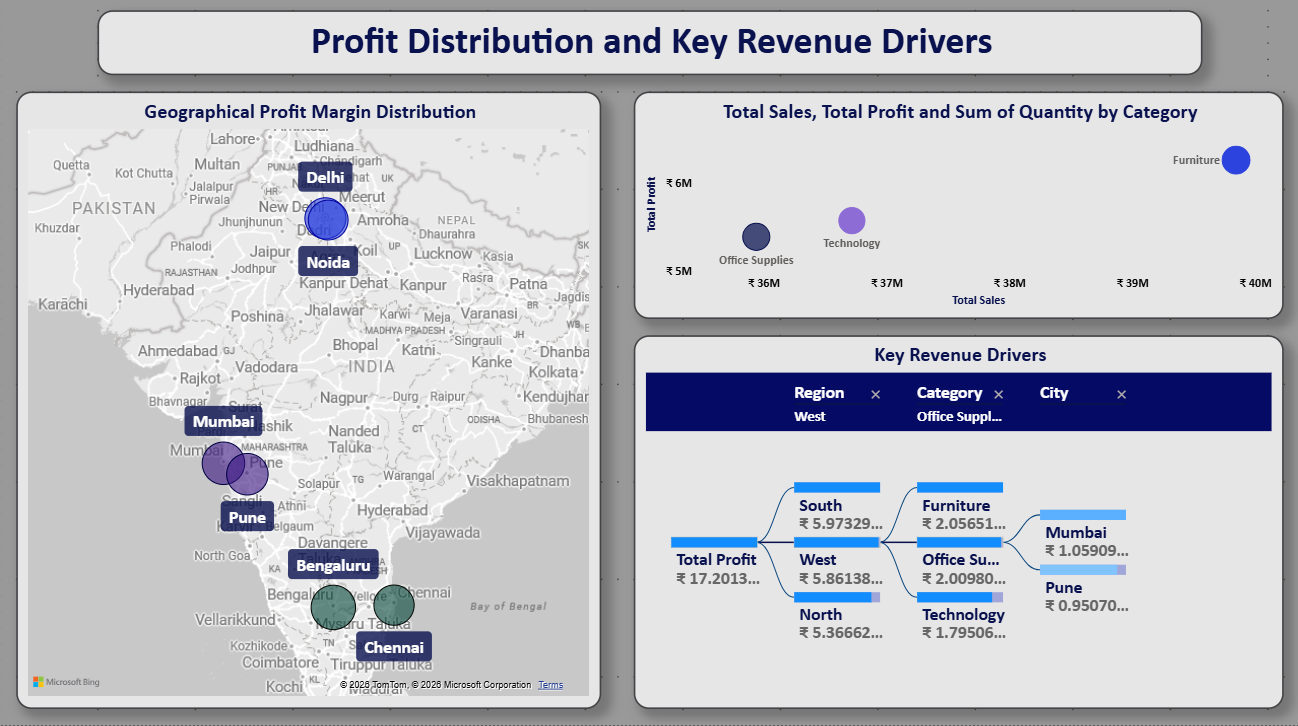

Layout of this report page (visuals, bound fields, positions):
{"tool":"powerbi","page":{"name":"Profit Analysis","canvas":[1280,720],"ordinal":2},"visuals":[{"type":"textbox","title":"Profit Distribution and Key Revenue Drivers","box":[96,16,1088,64],"z":0},{"type":"scatterChart","fields":{"X":["Fact_Orders.Total Sales"],"Y":["Fact_Orders.Total Profit"],"Series":["DimProduct.Category"],"Size":["Sum(Fact_Orders.Quantity)"]},"box":[624,96,640,224],"z":1000},{"type":"map","title":"Geographical Profit Margin Distribution","fields":{"Category":["Fact_Orders.City"],"Series":["Fact_Orders.Region"],"Size":["Fact_Orders.Total Profit"]},"box":[16,96,576,608],"z":2000},{"type":"decompositionTreeVisual","title":"Key Revenue Drivers","fields":{"ExplainBy":["Fact_Orders.Region","DimProduct.Category","Fact_Orders.City"],"Analyze":["Fact_Orders.Total Profit"]},"box":[624,336,640,368],"z":3000}]}

Visuals, with their boxes in screenshot pixels (x1, y1, x2, y2), scaled from the page's 1280x720 canvas onto the 1298x726 screenshot:
"Profit Distribution and Key Revenue Drivers" textbox: [97,16,1201,81]
scatterChart - Fact_Orders.Total Sales x Fact_Orders.Total Profit: [633,97,1282,323]
"Geographical Profit Margin Distribution" map: [16,97,600,710]
"Key Revenue Drivers" decompositionTreeVisual: [633,339,1282,710]
